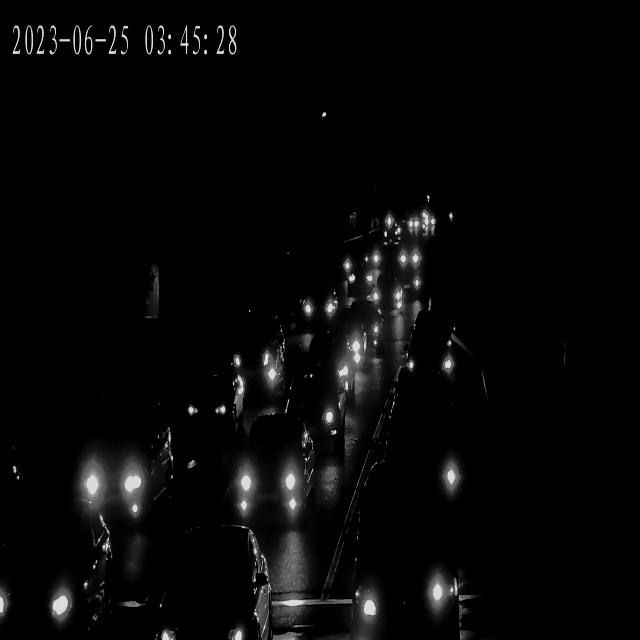Car: (345, 456, 467, 640), (0, 504, 124, 640), (65, 403, 176, 529), (146, 535, 270, 640), (378, 366, 464, 492), (226, 418, 315, 522), (226, 322, 292, 402), (172, 366, 240, 442), (288, 382, 346, 459), (401, 304, 458, 382), (306, 316, 372, 374), (296, 284, 341, 324), (371, 279, 408, 315), (346, 259, 378, 288), (394, 245, 424, 269), (382, 216, 401, 242), (408, 208, 422, 233), (424, 211, 439, 234)
